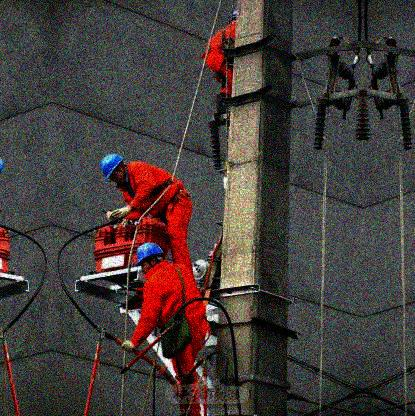helmet: (133, 241, 165, 279), (99, 153, 128, 188)
